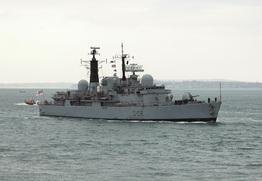warship: (31, 40, 229, 122)
